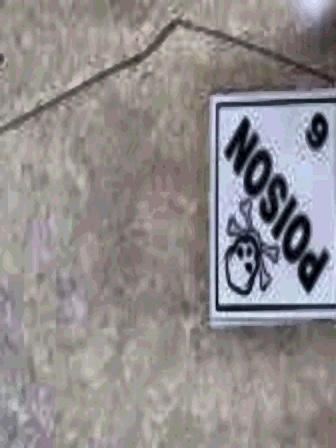poison: (206, 88, 336, 328)
